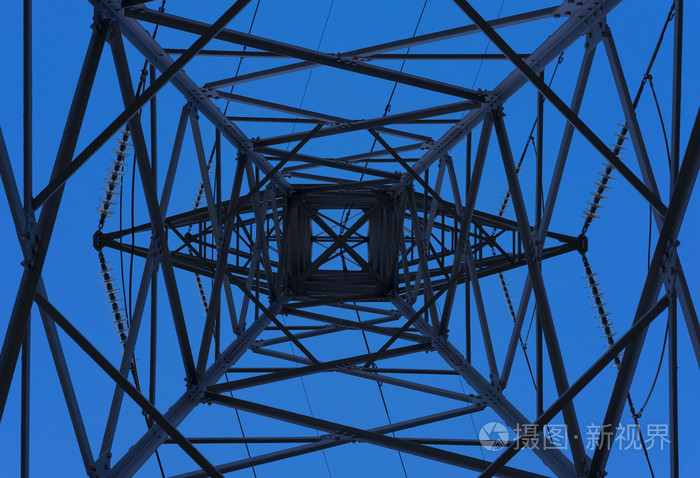insulator: (583, 120, 630, 219), (582, 259, 623, 368), (94, 128, 128, 215), (95, 258, 129, 342), (498, 160, 523, 212), (192, 158, 213, 206), (499, 273, 519, 314), (192, 273, 211, 311)
